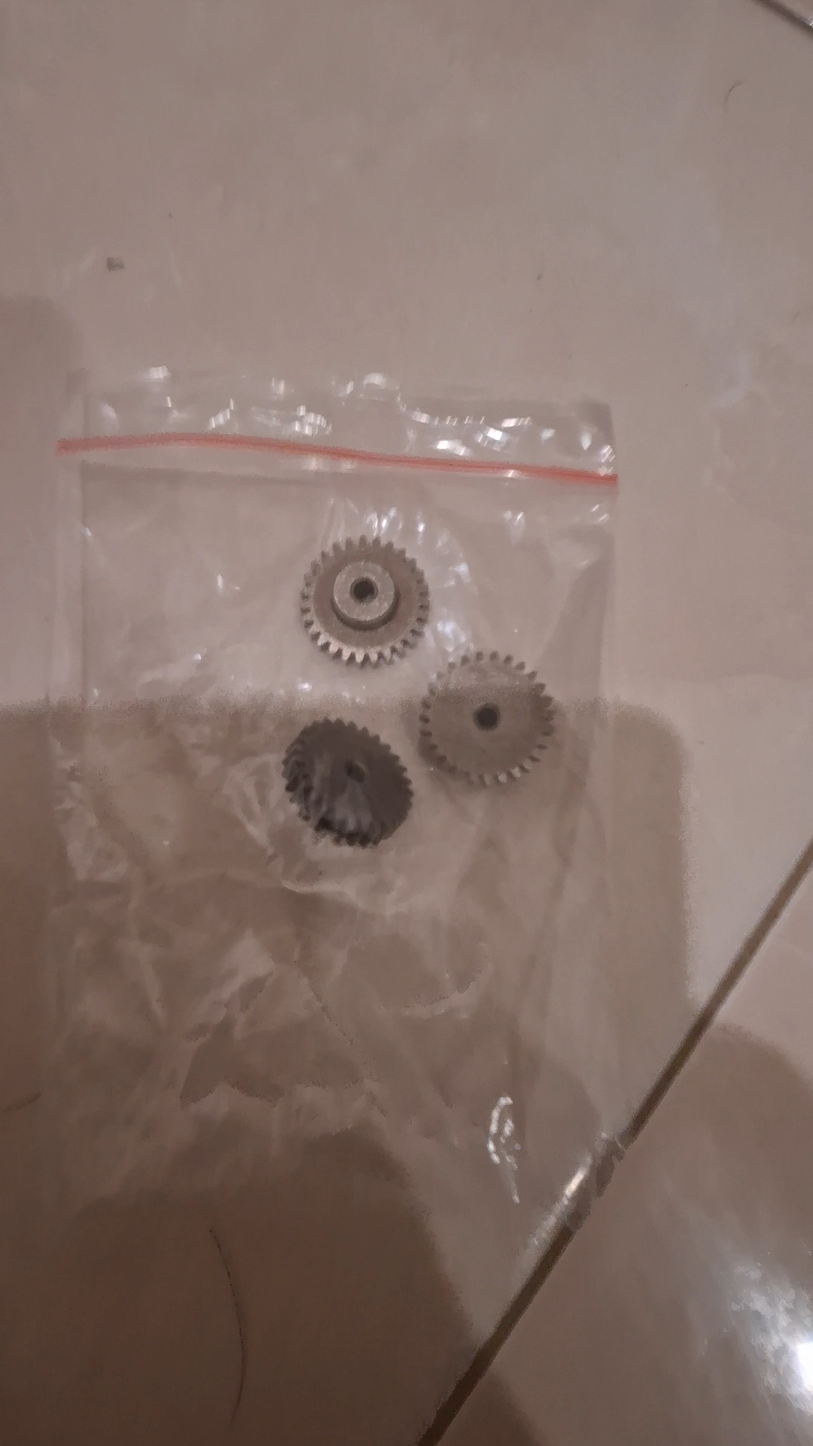spur gear: (414, 652, 556, 786), (296, 535, 432, 668), (278, 717, 416, 848)
